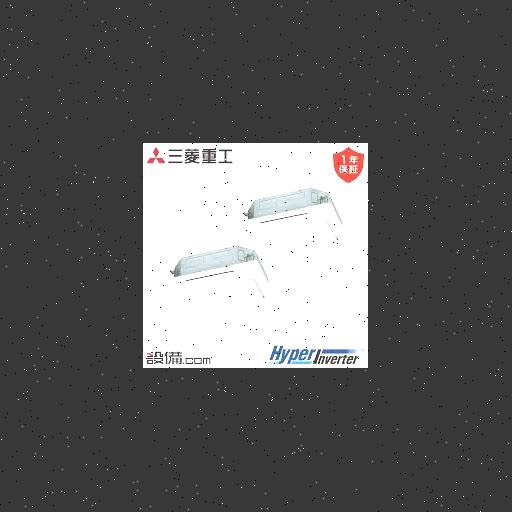4-way-ac: (160, 260, 279, 320), (234, 204, 347, 262)
